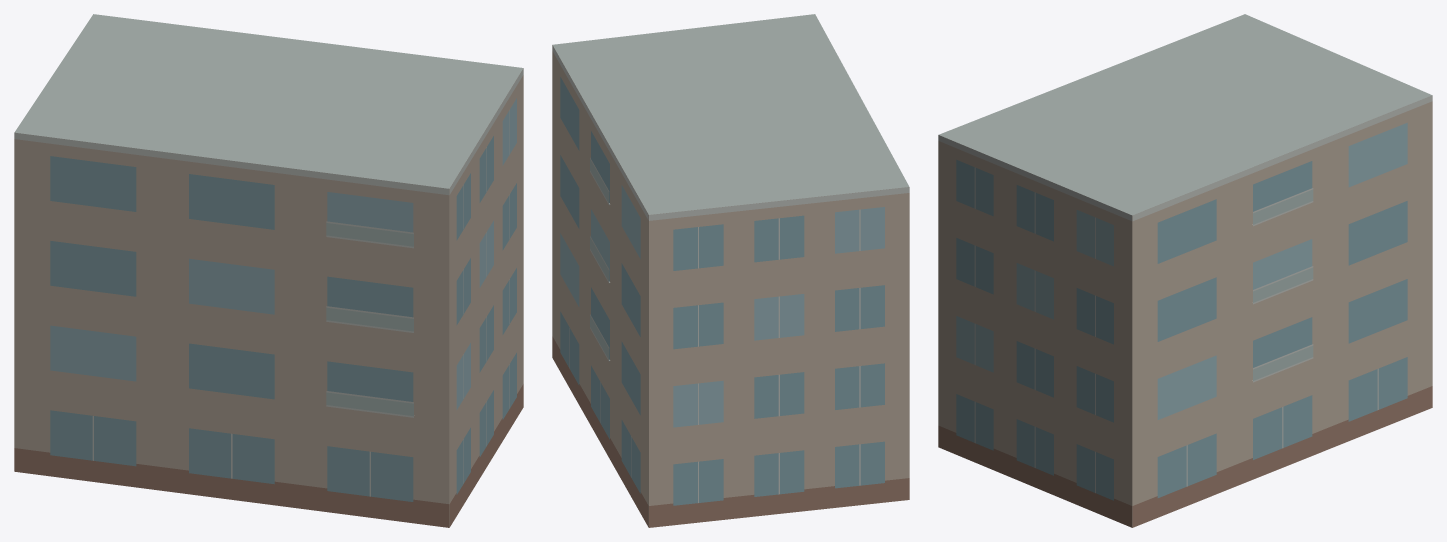
The model's file is survey-upis-32891634.glb.
3 views of the same model, side by side, from view 1: azimuth 30°, elevation 25°; view 2: azimuth 150°, elevation 25°; view 3: azimuth 270°, elevation 25° (orthographic). The views are drawn at different scales.
Visible parts, largest first — view 1: survey-upis-32891634.tmp; view 2: survey-upis-32891634.tmp; view 3: survey-upis-32891634.tmp.
Boxes of the visible parts, box(x1,y1,x2,y2) form: survey-upis-32891634.tmp: box(14, 14, 523, 527); survey-upis-32891634.tmp: box(552, 14, 909, 527); survey-upis-32891634.tmp: box(938, 14, 1432, 527).
Bounding box in the file's own units: 17.71 × 12.8 × 18.36.
